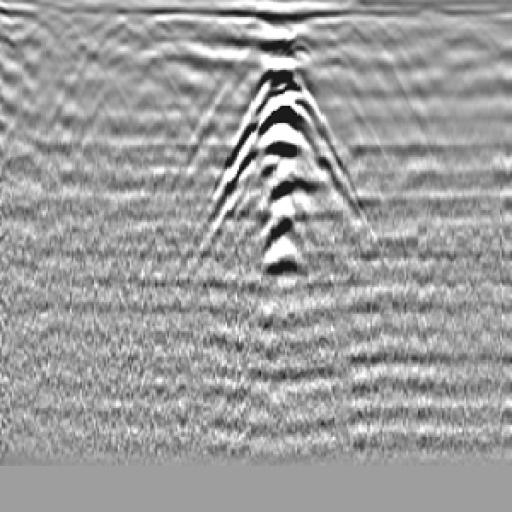metalic: (204, 59, 368, 274)
